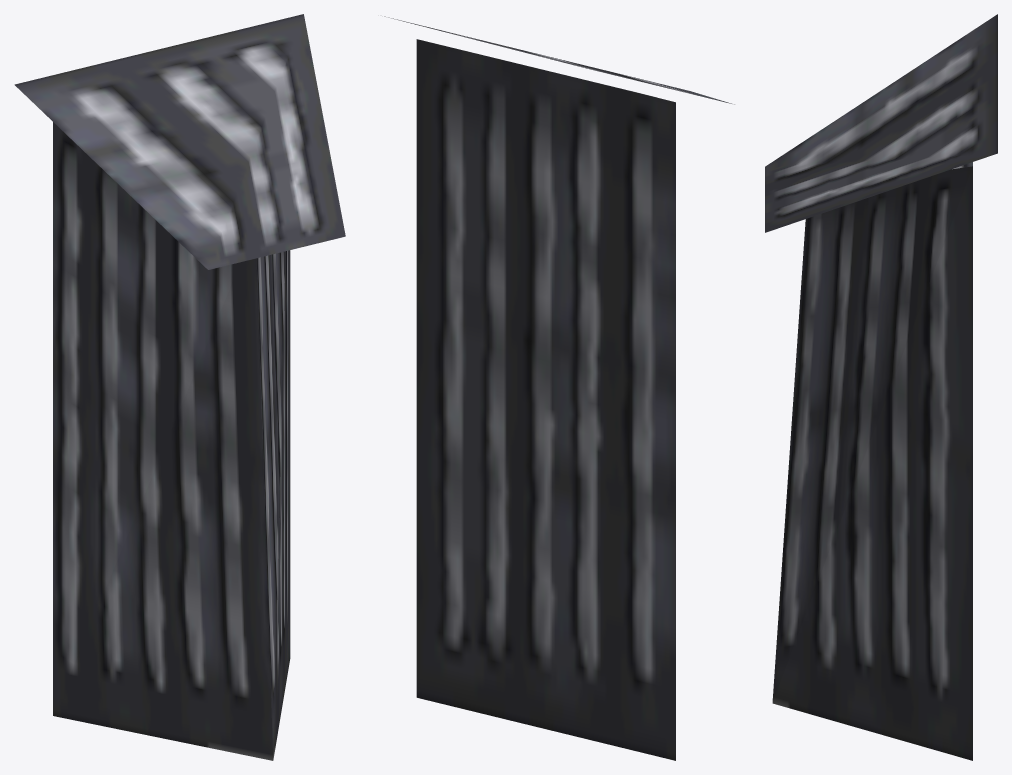
File: Mauer_Mini_564.glb
The picture shows the model from 3 angles, left to right: view 1: azimuth 30°, elevation 25°; view 2: azimuth 150°, elevation 25°; view 3: azimuth 270°, elevation 25°; orthographic projection. The views are drawn at different scales.
Visible parts, largest first — view 1: pCylinderShape1, pPlaneShape4; view 2: pCylinderShape1, pPlaneShape4; view 3: pCylinderShape1, pPlaneShape4.
Part boxes in pixels (x1,y1,x2,y2): pCylinderShape1: (53,122,290,760); pPlaneShape4: (14,14,345,269); pCylinderShape1: (416,39,675,760); pPlaneShape4: (384,16,734,104); pCylinderShape1: (772,162,972,760); pPlaneShape4: (765,14,997,232).
Bounding box in the file's own units: 0.0459 × 0.0952 × 0.0324.
Materials: 2 (2 with a texture image).
